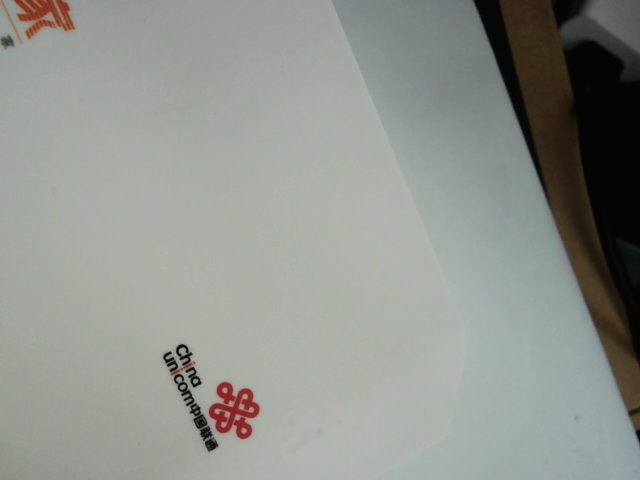ChinaUnicom1: (154, 336, 271, 455)
